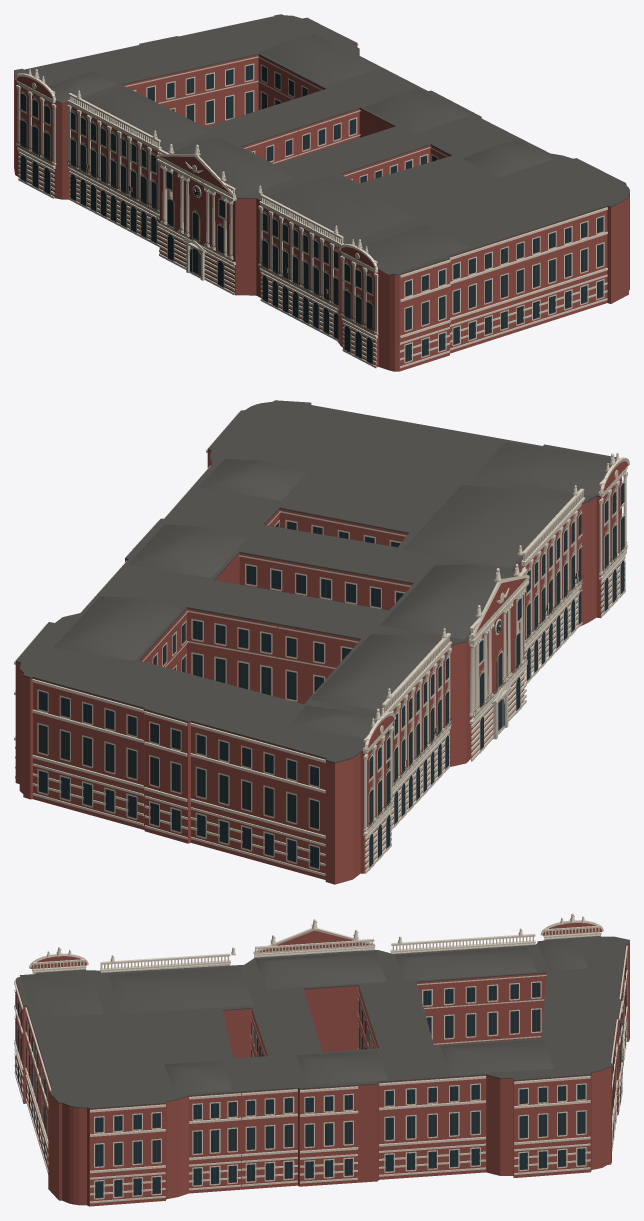
The model's file is capitole-de-toulouse-near.glb.
3 views of the same model, one above another, from view 1: azimuth 30°, elevation 25°; view 2: azimuth 150°, elevation 25°; view 3: azimuth 270°, elevation 25° (orthographic). The views are drawn at different scales.
Parts seen in each view (by area): view 1: capitole-de-toulouse-0-roof, capitole-de-toulouse-0-brick, capitole-de-toulouse-0-stone, capitole-de-toulouse-0-glass, capitole-de-toulouse-0-glow, capitole-de-toulouse-0-metal, capitole-de-toulouse-0-marble; view 2: capitole-de-toulouse-0-roof, capitole-de-toulouse-0-brick, capitole-de-toulouse-0-stone, capitole-de-toulouse-0-glass, capitole-de-toulouse-0-glow, capitole-de-toulouse-0-metal, capitole-de-toulouse-0-marble; view 3: capitole-de-toulouse-0-roof, capitole-de-toulouse-0-brick, capitole-de-toulouse-0-stone, capitole-de-toulouse-0-glass, capitole-de-toulouse-0-glow, capitole-de-toulouse-0-metal.
Boxes of the visible parts, x1,y1,x2,y2 form: capitole-de-toulouse-0-roof: (14,14,629,275); capitole-de-toulouse-0-brick: (14,44,629,371); capitole-de-toulouse-0-stone: (14,43,626,368); capitole-de-toulouse-0-glass: (20,65,603,364); capitole-de-toulouse-0-glow: (20,91,603,330); capitole-de-toulouse-0-metal: (17,66,600,362); capitole-de-toulouse-0-marble: (161,166,233,258); capitole-de-toulouse-0-roof: (15,400,615,763); capitole-de-toulouse-0-brick: (15,450,627,884); capitole-de-toulouse-0-stone: (14,412,629,876); capitole-de-toulouse-0-glass: (39,483,624,868); capitole-de-toulouse-0-glow: (39,516,624,828); capitole-de-toulouse-0-metal: (42,486,627,866); capitole-de-toulouse-0-marble: (469,590,524,716); capitole-de-toulouse-0-roof: (15,936,629,1109); capitole-de-toulouse-0-brick: (15,922,629,1206); capitole-de-toulouse-0-stone: (14,913,627,1203); capitole-de-toulouse-0-glass: (15,958,626,1198); capitole-de-toulouse-0-glow: (15,984,626,1166); capitole-de-toulouse-0-metal: (39,983,622,1197).
Size of the model in its own units: 71.41 by 25 by 106.
